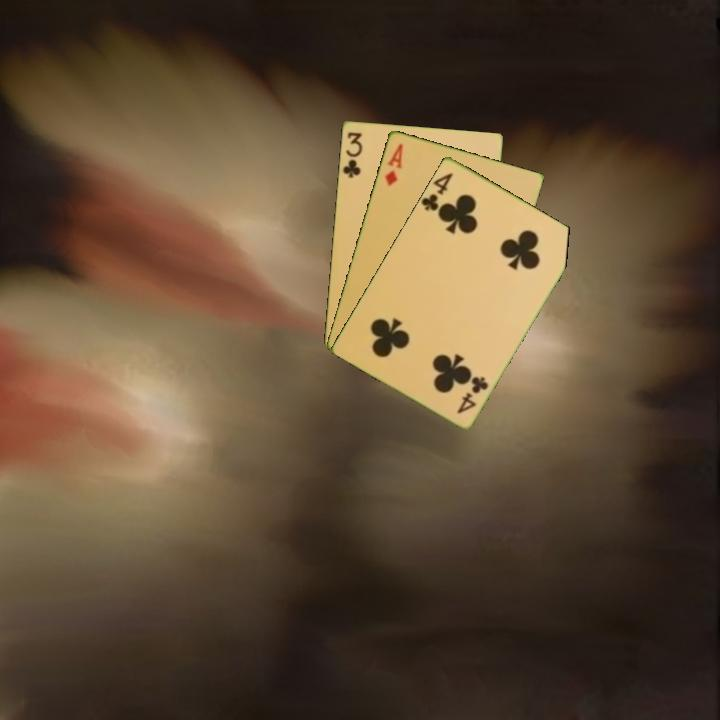3c: (339, 128, 365, 180)
4c: (418, 168, 456, 214), (453, 372, 491, 416)
Ad: (381, 139, 405, 189)
